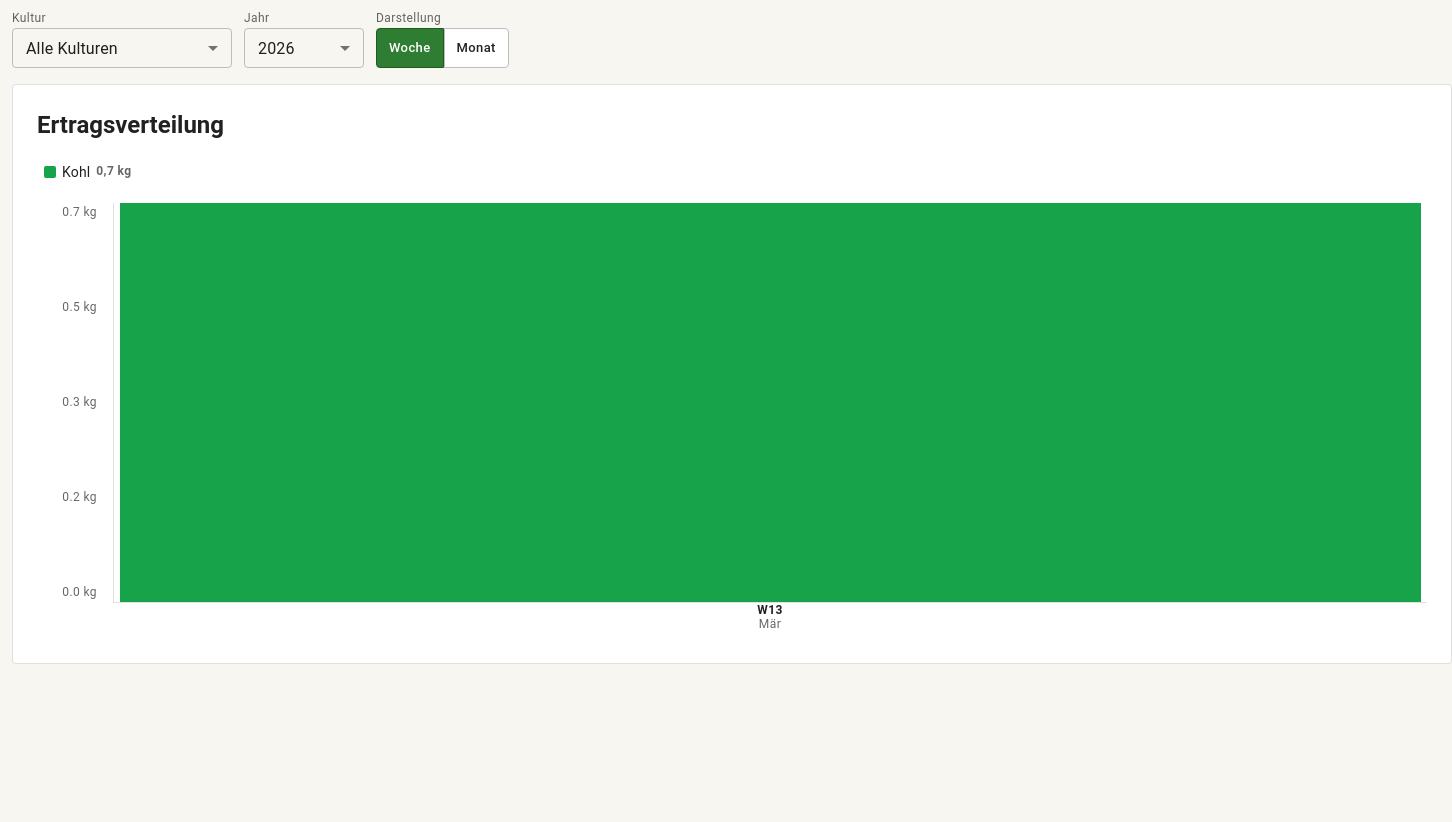
YieldOverviewPage › mobile long-press behavior on yield segments › opens the context menu after a long press
Press the mouse on the button with test id "yield-bar-2026-W13-1" at coordinates (770, 402), box [120,203,1421,602]
Wait 600 ms
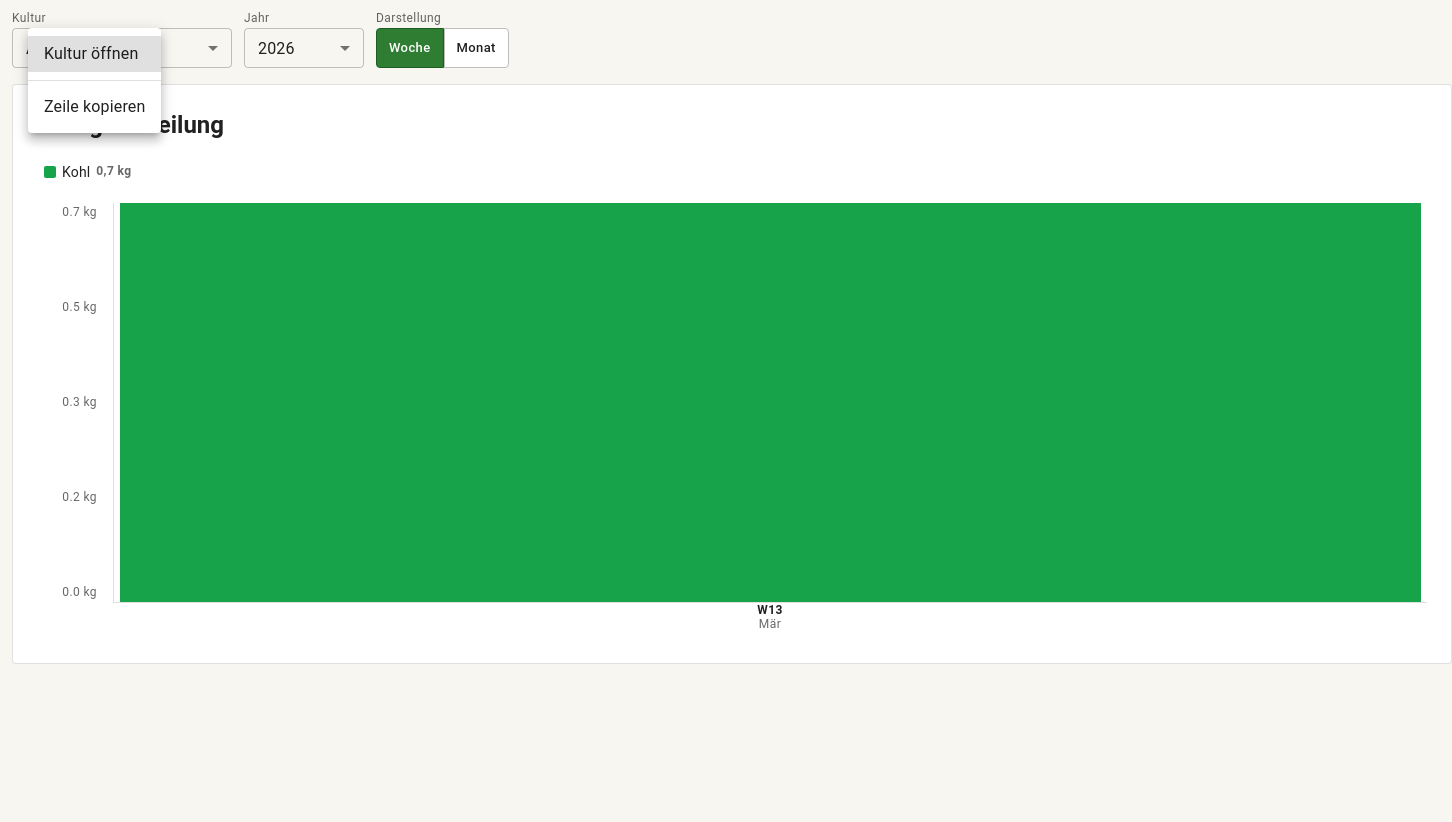
Expected: the menu item "Kultur öffnen" is shown, [28,36,161,72]
